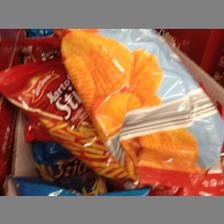Chips: (61, 28, 223, 168)
